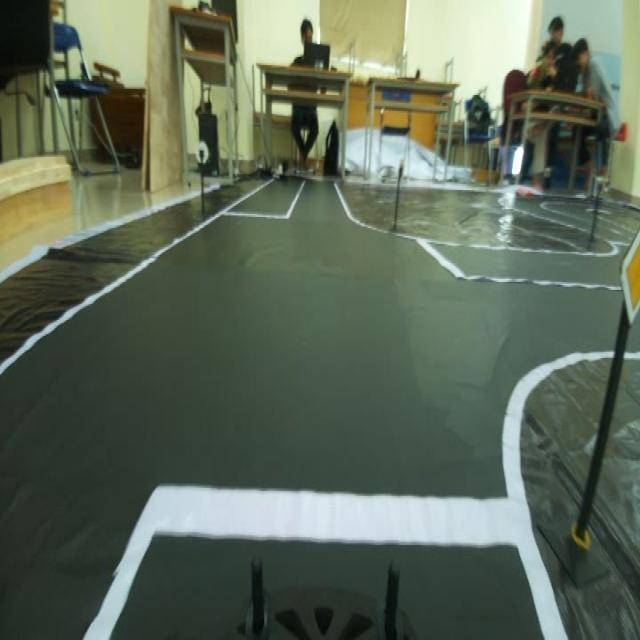priority: (612, 235, 640, 331)
